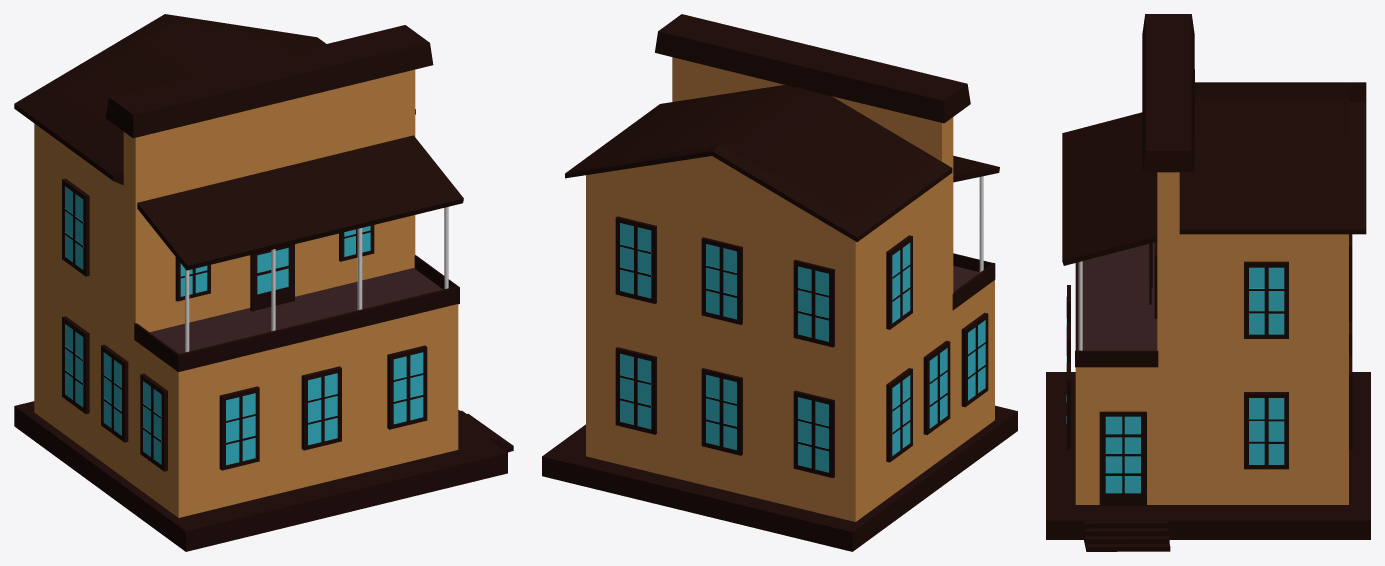
Rendered from Domek1.FBX.
The picture shows the model from 3 angles, left to right: view 1: azimuth 30°, elevation 25°; view 2: azimuth 150°, elevation 25°; view 3: azimuth 270°, elevation 25°; orthographic projection. The views are drawn at different scales.
Parts seen in each view (by area): view 1: Box002, Plane011, Podstawka001, Plane015, Plane012, FixedWindow035, FixedWindow036, FixedWindow037, FixedWindow029, FixedWindow026, FixedWindow034, FixedWindow033 (+4 smaller); view 2: Box002, Podstawka001, FixedWindow022, FixedWindow025, FixedWindow020, FixedWindow021, FixedWindow023, FixedWindow024, FixedWindow034, FixedWindow033, FixedWindow026, FixedWindow027 (+2 smaller); view 3: Box002, Podstawka001, Plane011, Plane015, FixedWindow032, FixedWindow018, FixedWindow019, Plane013, Cylinder009, FixedWindow035.
Part boxes in pixels (x1,y1,x2,y2): Box002: (14,14,458,517); Plane011: (137,135,463,270); Podstawka001: (14,401,513,551); Plane015: (150,268,442,353); Plane012: (179,286,457,371); FixedWindow035: (387,345,427,429); FixedWindow036: (219,386,259,470); FixedWindow037: (301,366,341,450); FixedWindow029: (250,244,294,311); FixedWindow026: (62,316,89,414); FixedWindow034: (101,344,128,442); FixedWindow033: (140,373,167,471); Box002: (565,14,994,521); Podstawka001: (542,405,1017,551); FixedWindow022: (793,259,834,347); FixedWindow025: (793,390,834,477); FixedWindow020: (615,216,656,303); FixedWindow021: (701,237,742,324); FixedWindow023: (615,347,656,434); FixedWindow024: (701,368,742,455); FixedWindow034: (923,340,950,434); FixedWindow033: (961,312,988,407); FixedWindow026: (886,368,912,462); FixedWindow027: (886,235,912,329); Box002: (1075,14,1366,504); Podstawka001: (1046,372,1370,551); Plane011: (1062,112,1157,265); Plane015: (1077,242,1157,350); FixedWindow032: (1099,411,1146,505); FixedWindow018: (1244,392,1288,469); FixedWindow019: (1244,261,1288,338); Plane013: (1075,350,1158,367); Cylinder009: (1078,261,1082,350); FixedWindow035: (1066,362,1070,449).
Size of the model in its own units: 138 by 150 by 117.
